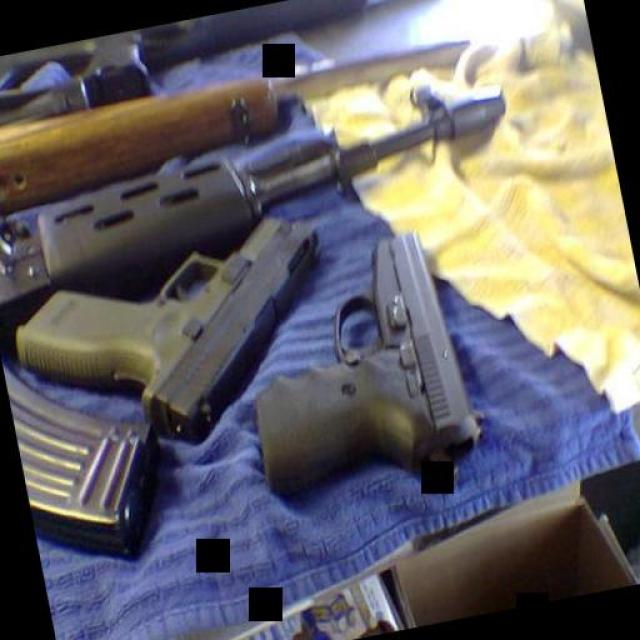gun: (0, 197, 351, 468), (221, 220, 491, 512)
